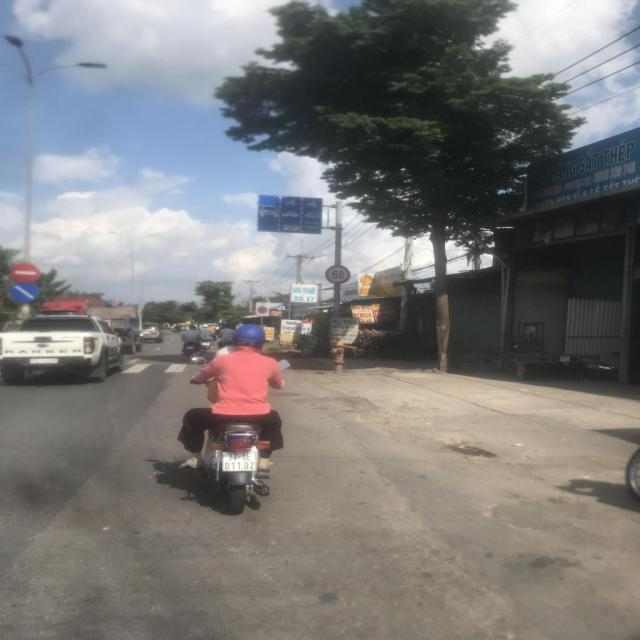cam_do_xe: (257, 306, 268, 314)
cam_xe_di_nguoc_chieu: (12, 264, 40, 282)
huong_phai_di_vuot_chuong_ngai_vat_phai: (11, 282, 38, 303)
lan_duong_cho_tung_xe_theo_vach_ke_duong: (256, 196, 322, 233)
toc_do_toi_da_60: (325, 264, 352, 286)
